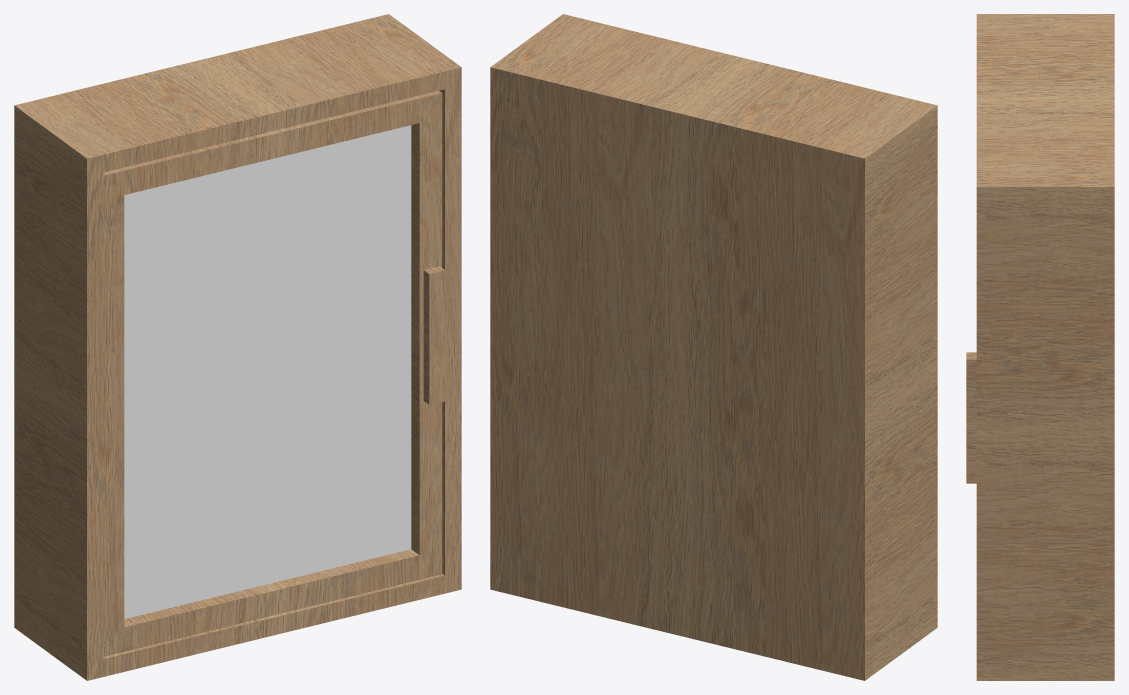
Rendered from Drug box.FBX.
3 views of the same model, side by side, from view 1: azimuth 30°, elevation 25°; view 2: azimuth 150°, elevation 25°; view 3: azimuth 270°, elevation 25° (orthographic). The views are drawn at different scales.
Parts seen in each view (by area): view 1: Drug box; view 2: Drug box; view 3: Drug box.
Part boxes in pixels (x1,y1,x2,y2): Drug box: (14,14,461,680); Drug box: (490,14,937,680); Drug box: (966,14,1114,680).
Size of the model in its own units: 58.16 by 77.49 by 21.06.
Materials: 2 (1 with a texture image).
